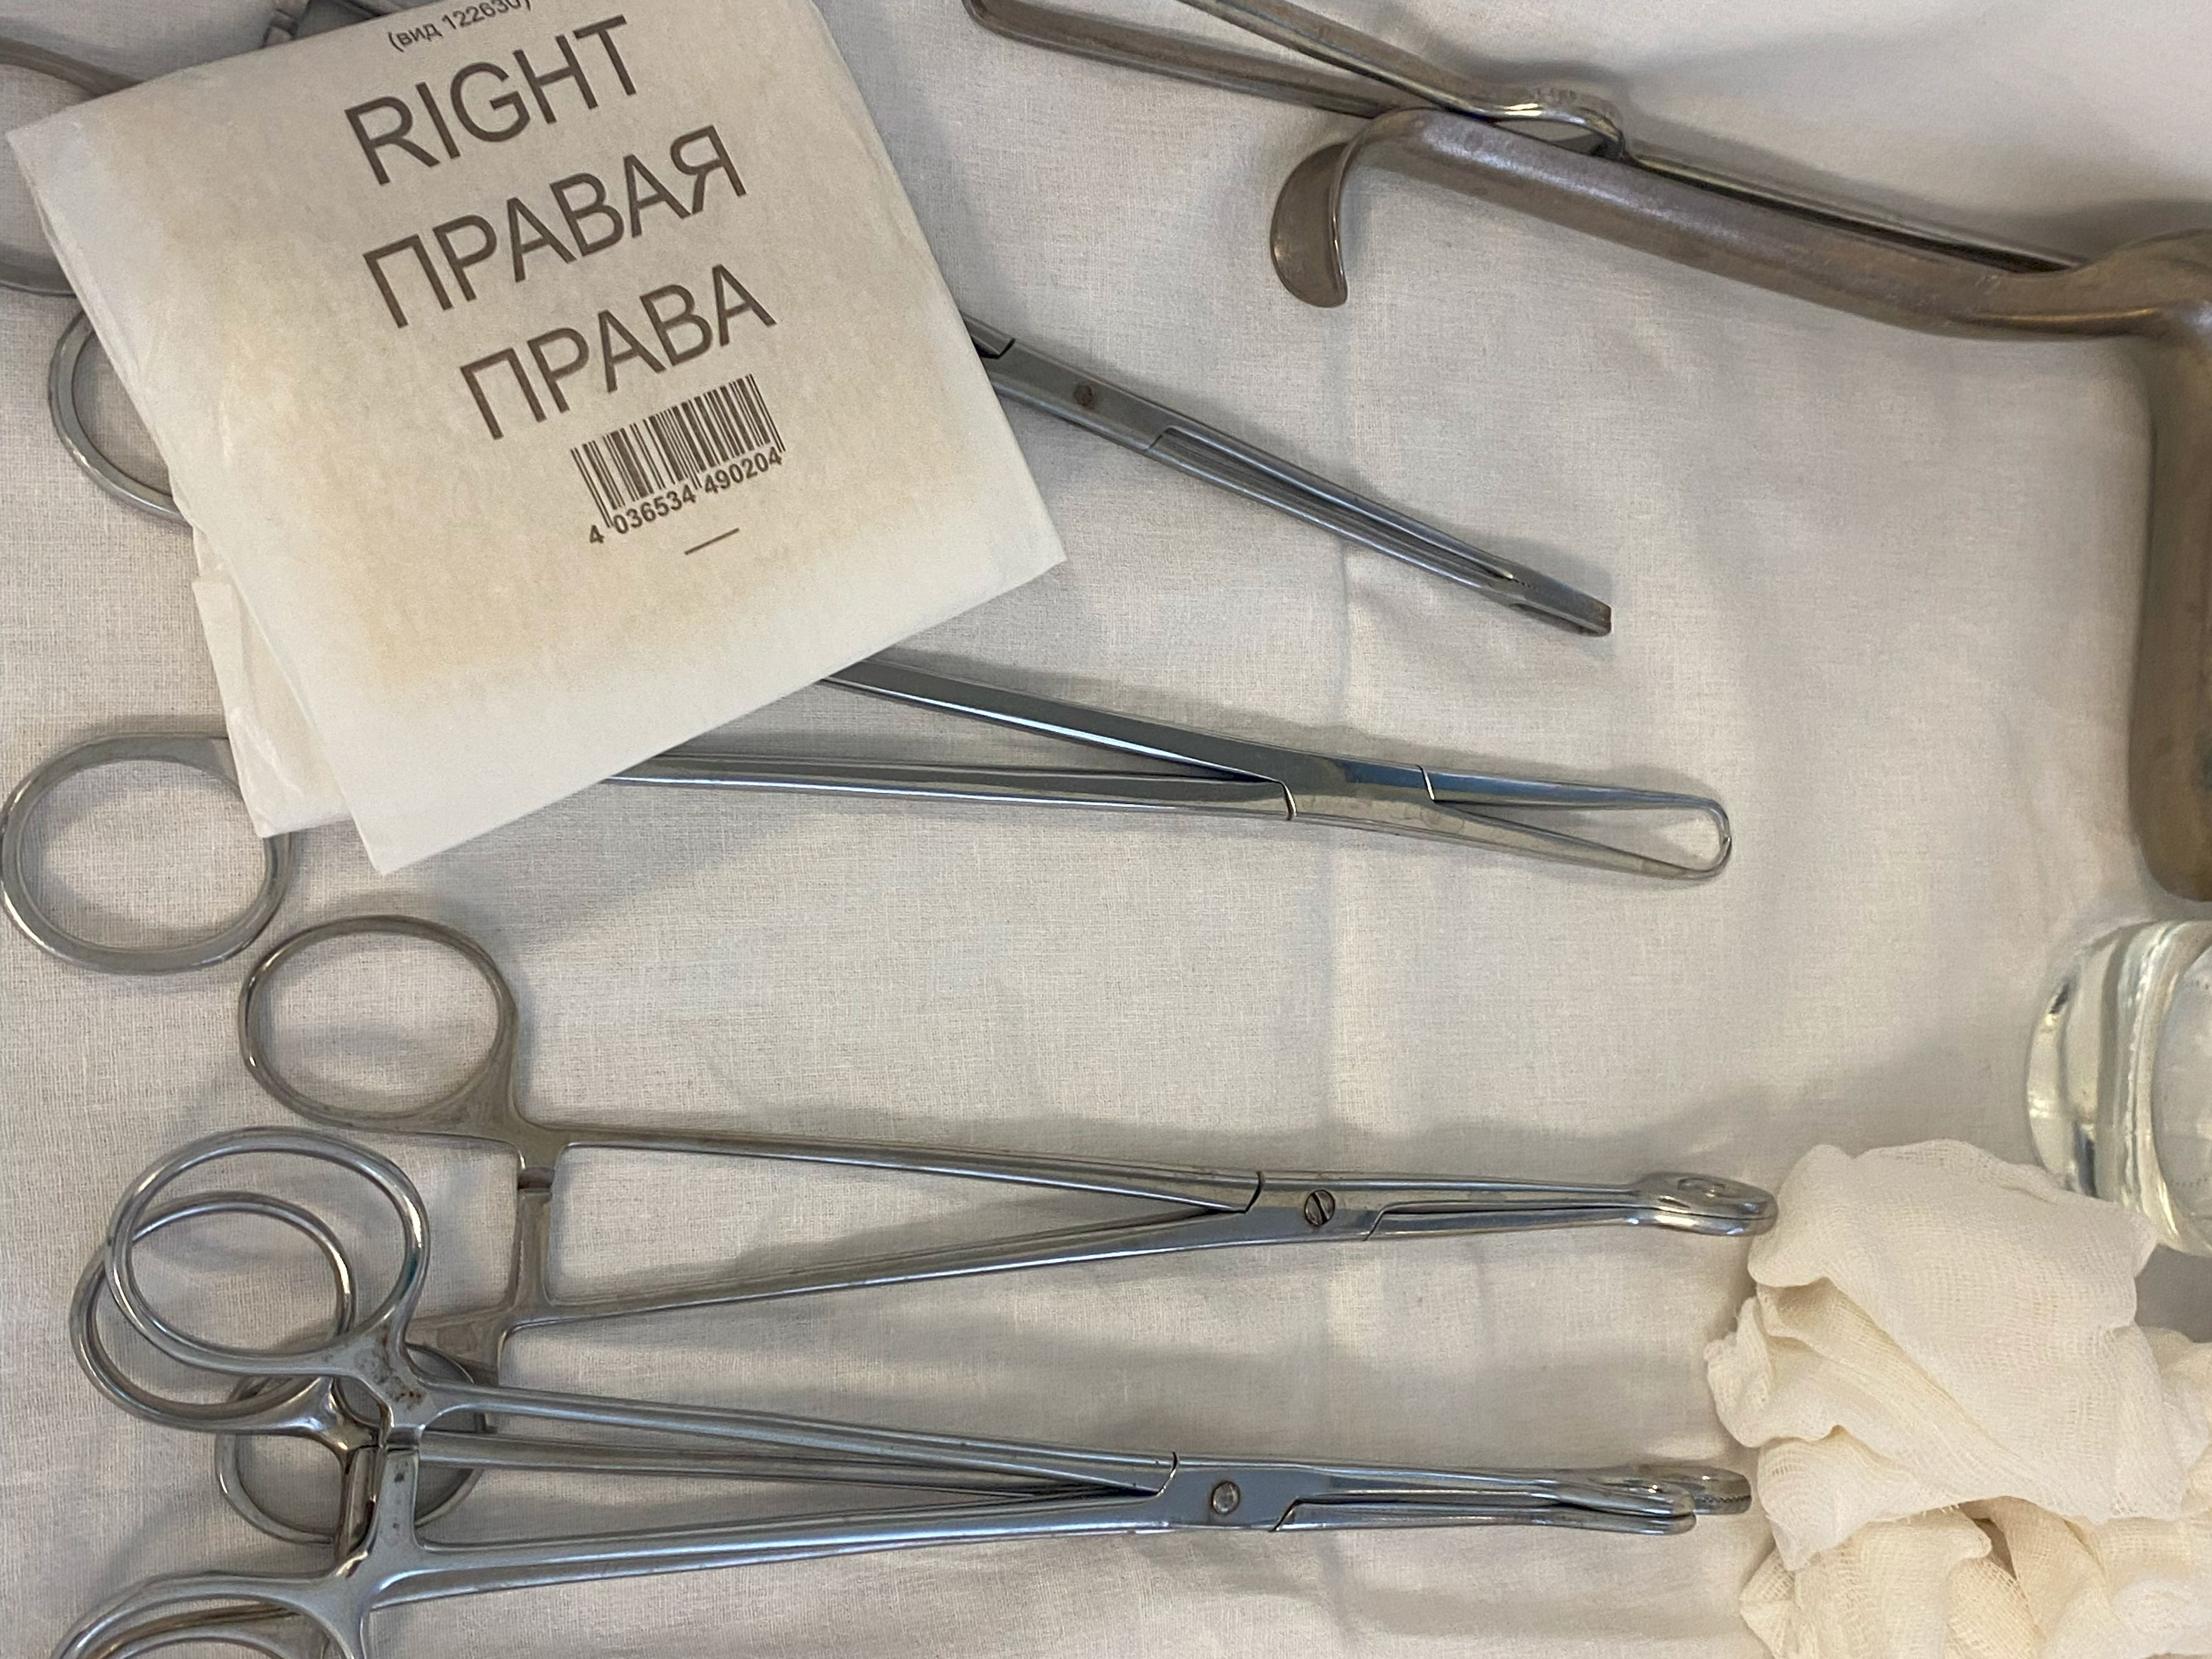clamp: (61, 1127, 1750, 1659), (239, 915, 1777, 1378)
